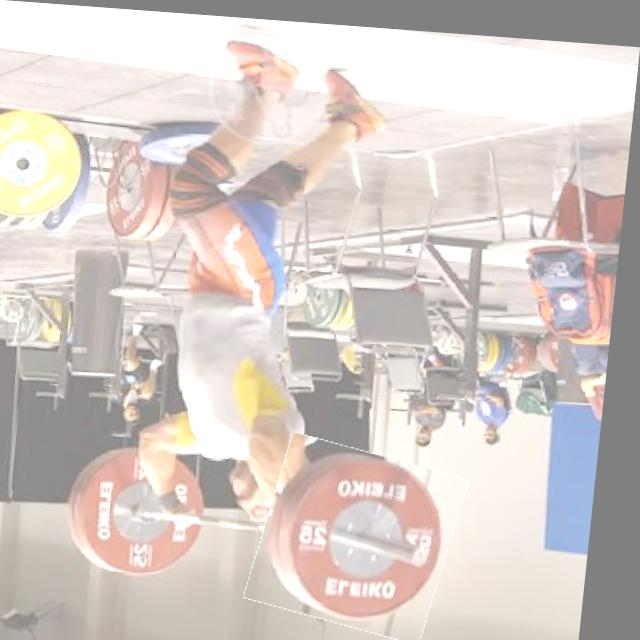barbell: (263, 434, 474, 632)
